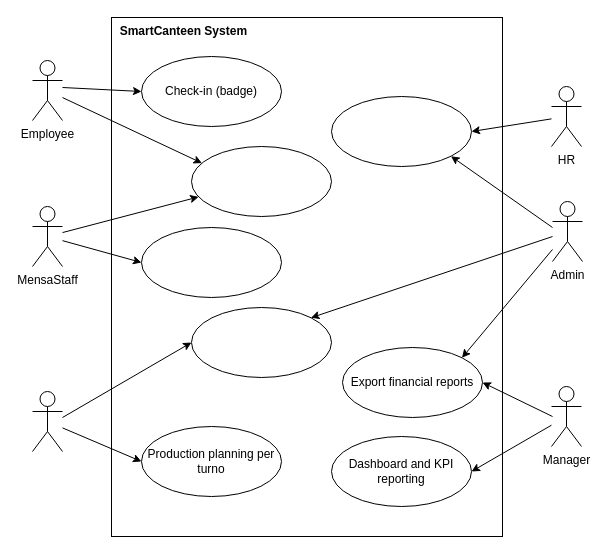
Image size: 607x554. Some labels were removed from this diagram. Each missing label, with the centre of its shape:
"Chef" belongs at (x=47, y=421).
"Manage recipes and inventory" belongs at (x=261, y=342).
"Schedule staff / shifts" belongs at (x=401, y=131).
"Serve (confirm, take and print receipt)" belongs at (x=211, y=262).
"View menu (daily + always)" belongs at (x=261, y=181).
